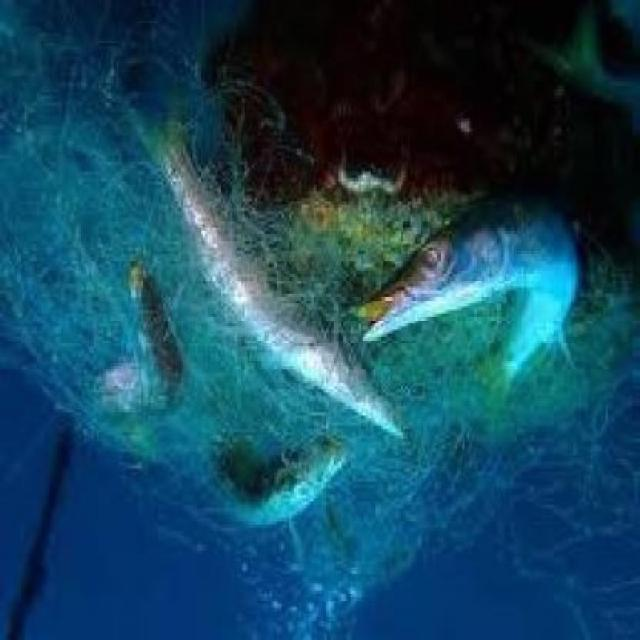net: (15, 36, 613, 575)
